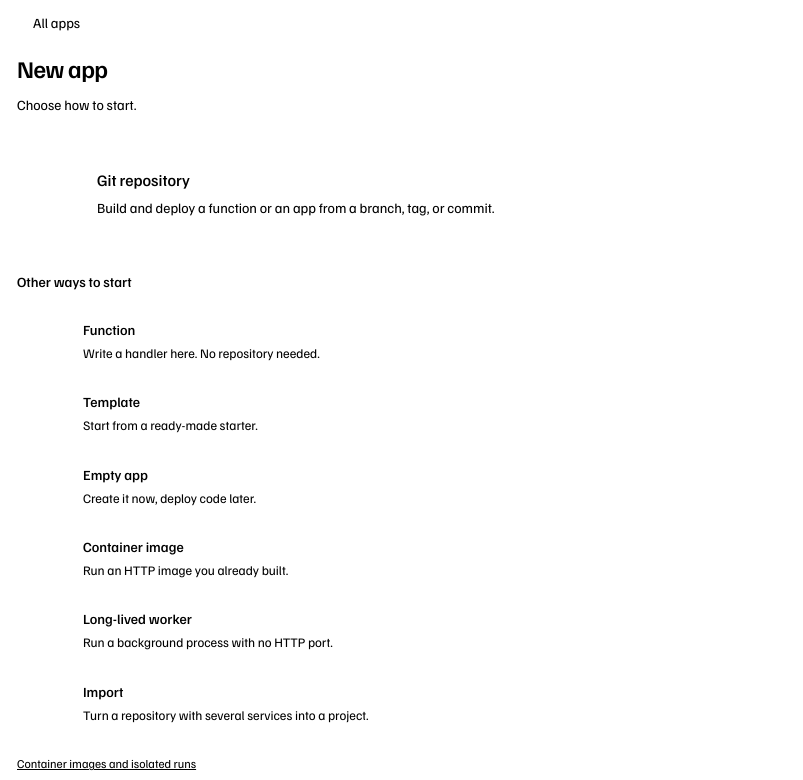
Test case: NewAppWizard validation › offers Continue on the template page only once a template is picked
The width and height of the screenshot is (803, 780).
Click the button "Template": (112, 402) [17,377,785,450]
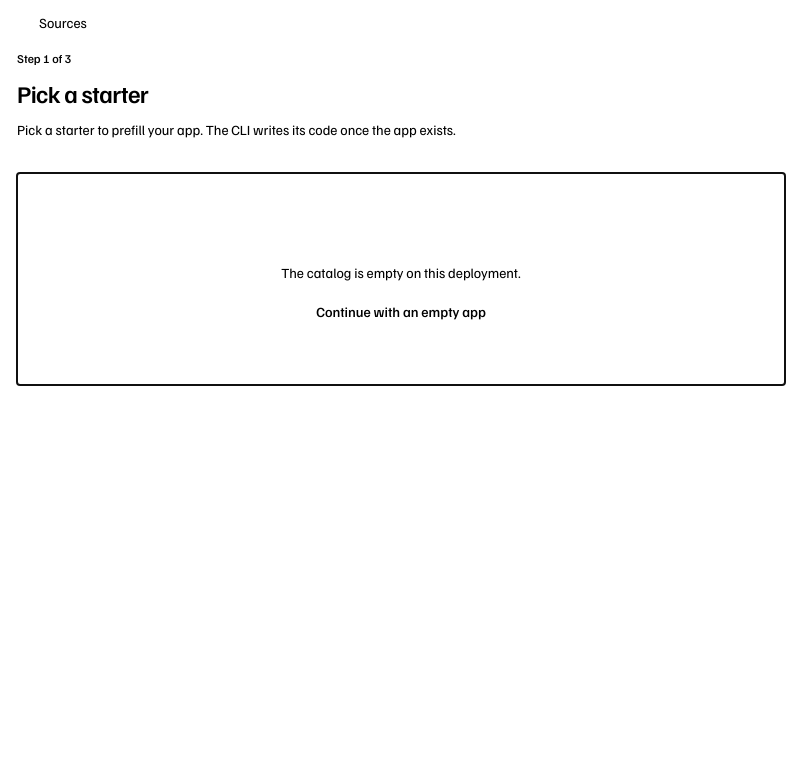
expect the text "Pick a starter to prefill your app" is shown: met, box [17,120,456,138]
